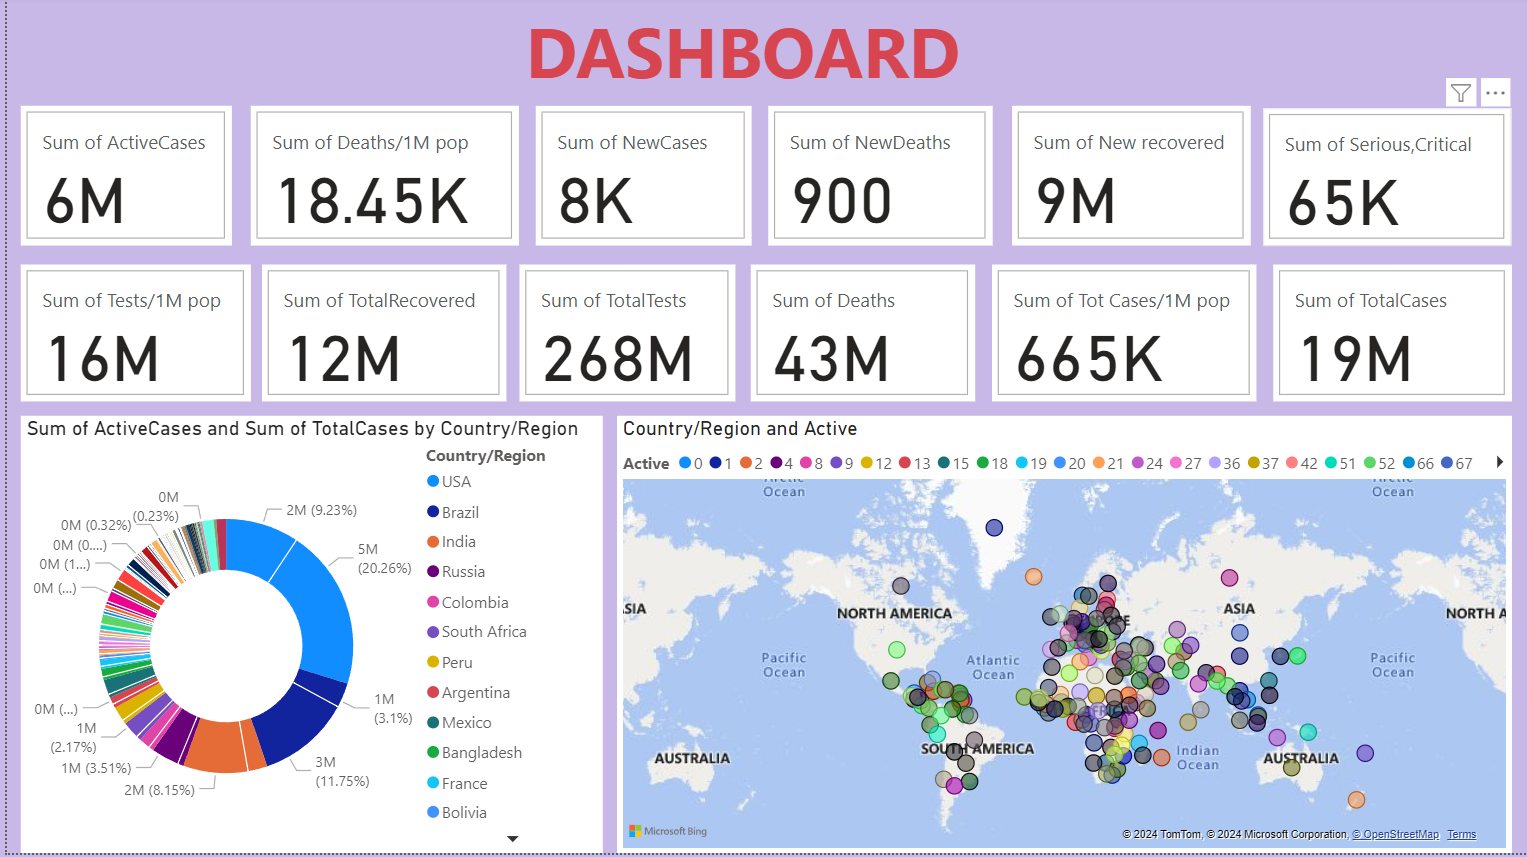

The page's visual inventory and layout, read from the dashboard file:
{"tool":"powerbi","page":{"name":"Dashboard","canvas":[1280,720],"ordinal":0},"visuals":[{"type":"cardVisual","fields":{"Data":["Sum(day_wise.New recovered)"]},"box":[845.3,91.3,200.5,117.7],"z":0},{"type":"cardVisual","fields":{"Data":["Sum(worldometer_data.NewCases)"]},"box":[444.3,91.3,181.3,117.7],"z":1000},{"type":"cardVisual","fields":{"Data":["Sum(worldometer_data.ActiveCases)"]},"box":[12,91.3,177.7,117.7],"z":2000},{"type":"cardVisual","fields":{"Data":["Sum(day_wise.Deaths)"]},"box":[625.6,224.5,188.5,115.3],"z":3000},{"type":"cardVisual","fields":{"Data":["Sum(worldometer_data.Serious,Critical)"]},"box":[1056.7,93.7,208.9,115.3],"z":4000},{"type":"cardVisual","title":"SUM OF DEATHS / 1M POPULATION","fields":{"Data":["Sum(worldometer_data.Deaths/1M pop)"]},"box":[205.3,91.3,225.7,117.7],"z":5000},{"type":"cardVisual","fields":{"Data":["Sum(worldometer_data.Tot Cases/1M pop)"]},"box":[828.5,224.5,222.1,115.3],"z":6000},{"type":"cardVisual","title":"SUM OF TOTAL CASES WORLDOMETER DATA","fields":{"Data":["Sum(worldometer_data.TotalCases)"]},"box":[1065.1,224.5,200.5,115.3],"z":7000},{"type":"cardVisual","fields":{"Data":["Sum(worldometer_data.TotalRecovered)"]},"box":[214.9,224.5,205.3,115.3],"z":8000},{"type":"cardVisual","fields":{"Data":["Sum(worldometer_data.Tests/1M pop)"]},"box":[12,224.5,193.3,115.3],"z":9000},{"type":"cardVisual","fields":{"Data":["Sum(worldometer_data.TotalTests)"]},"box":[431.1,224.5,181.3,115.3],"z":10000},{"type":"cardVisual","title":"SUM OF TOTAL CASES WORLDOMETER DATA","fields":{"Data":["Sum(worldometer_data.NewDeaths)"]},"box":[640,91.3,188.5,117.7],"z":11000},{"type":"map","fields":{"Series":["country_wise_latest.Active"],"Category":["country_wise_latest.Country/Region"]},"box":[512.7,351.8,752.9,368.6],"z":12000},{"type":"donutChart","fields":{"Y":["Sum(worldometer_data.ActiveCases)","Sum(worldometer_data.TotalCases)"],"Category":["worldometer_data.Country/Region"]},"box":[12,351.8,489.9,368.6],"z":13000},{"type":"textbox","box":[431.1,0,416.7,91.3],"z":14000}]}

Visuals, with their boxes in screenshot pixels (x1, y1, x2, y2), scaled from the page's 1280x720 canvas onto the 1527x857 screenshot:
cardVisual - Sum(day_wise.New recovered): BBox(1008, 109, 1248, 249)
cardVisual - Sum(worldometer_data.NewCases): BBox(530, 109, 746, 249)
cardVisual - Sum(worldometer_data.ActiveCases): BBox(14, 109, 226, 249)
cardVisual - Sum(day_wise.Deaths): BBox(746, 267, 971, 404)
cardVisual - Sum(worldometer_data.Serious,Critical): BBox(1261, 112, 1510, 249)
"SUM OF DEATHS / 1M POPULATION" cardVisual: BBox(245, 109, 514, 249)
cardVisual - Sum(worldometer_data.Tot Cases/1M pop): BBox(988, 267, 1253, 404)
"SUM OF TOTAL CASES WORLDOMETER DATA" cardVisual: BBox(1271, 267, 1510, 404)
cardVisual - Sum(worldometer_data.TotalRecovered): BBox(256, 267, 501, 404)
cardVisual - Sum(worldometer_data.Tests/1M pop): BBox(14, 267, 245, 404)
cardVisual - Sum(worldometer_data.TotalTests): BBox(514, 267, 731, 404)
"SUM OF TOTAL CASES WORLDOMETER DATA" cardVisual: BBox(764, 109, 988, 249)
map - country_wise_latest.Active x country_wise_latest.Country/Region: BBox(612, 419, 1510, 856)
donutChart - Sum(worldometer_data.ActiveCases) x Sum(worldometer_data.TotalCases): BBox(14, 419, 599, 856)
textbox: BBox(514, 0, 1011, 109)
